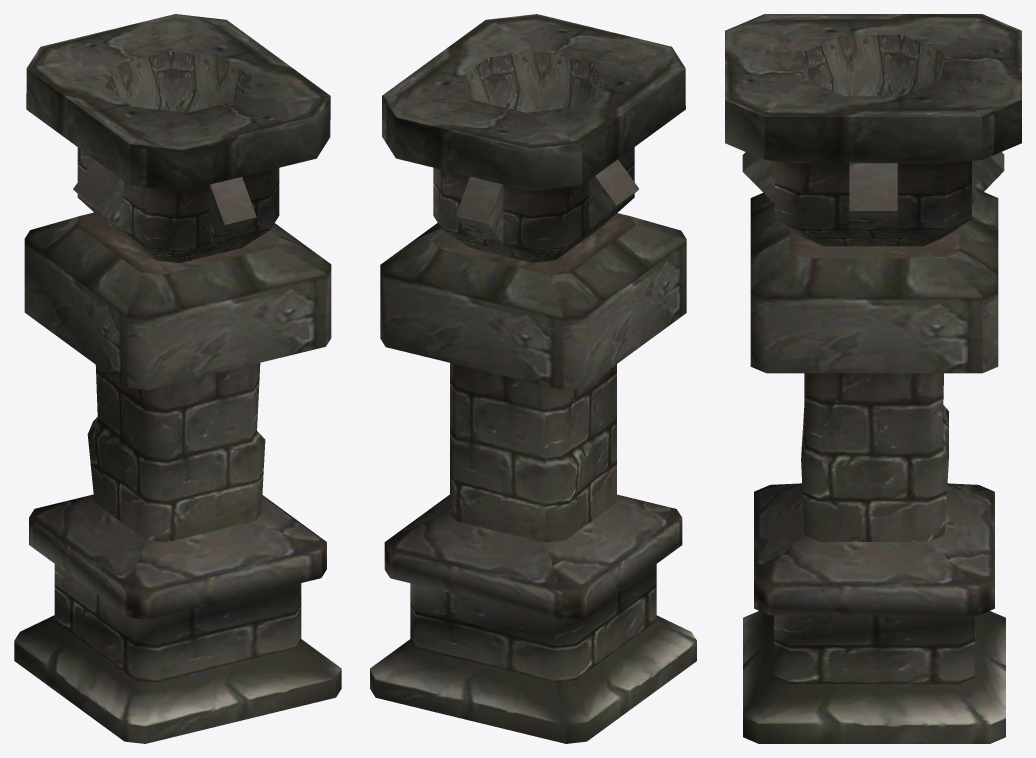
The model's file is h5_building_11.FBX.
3 renders of one model, left to right at view 1: azimuth 30°, elevation 25°; view 2: azimuth 150°, elevation 25°; view 3: azimuth 270°, elevation 25°, orthographic. The views are drawn at different scales.
Parts seen in each view (by area): view 1: h5_building_11; view 2: h5_building_11; view 3: h5_building_11.
Part boxes in pixels (x1,y1,x2,y2): h5_building_11: [14, 14, 341, 743]; h5_building_11: [370, 14, 696, 743]; h5_building_11: [725, 14, 1021, 743].
Bounding box in the file's own units: 3.4 × 8.89 × 3.84.
1 material, 1 textured.
